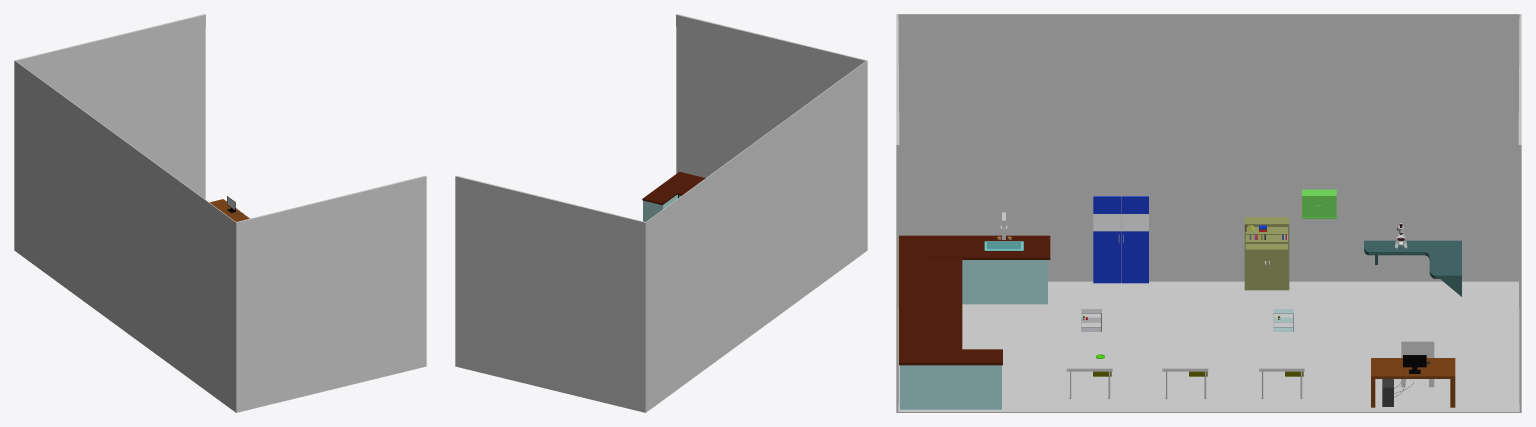
Rendered from laboratory4.glb.
3 renders of one model, left to right at view 1: azimuth 30°, elevation 25°; view 2: azimuth 150°, elevation 25°; view 3: azimuth 270°, elevation 25°, orthographic. The views are drawn at different scales.
Parts seen in each view (by area): view 1: Cube; view 2: Cube, Cube.053; view 3: Cube, Cube.053, Cube.001, Cube.002, Cube.107, Cube.003, Cube.056, Cube.057, Cube.011, Plane.004, Sphere.002, Cube.082 (+2 smaller).
Part boxes in pixels (<box>): Cube: <box>14,14,426,412</box>; Cube: <box>455,14,867,412</box>; Cube.053: <box>642,171,705,221</box>; Cube: <box>896,14,1521,412</box>; Cube.053: <box>899,235,1050,409</box>; Cube.001: <box>1121,196,1148,283</box>; Cube.002: <box>1093,196,1120,283</box>; Cube.107: <box>1162,323,1208,371</box>; Cube.003: <box>1364,240,1461,278</box>; Cube.056: <box>1066,323,1112,371</box>; Cube.057: <box>1259,323,1304,371</box>; Cube.011: <box>1371,358,1455,407</box>; Plane.004: <box>1244,217,1289,290</box>; Sphere.002: <box>1302,189,1336,218</box>; Cube.082: <box>1244,249,1267,289</box>.
Size of the model in its own units: 26.4 by 25.33 by 53.3.
